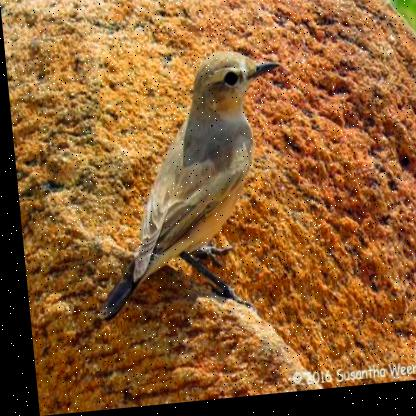Burung: (67, 54, 297, 330)
